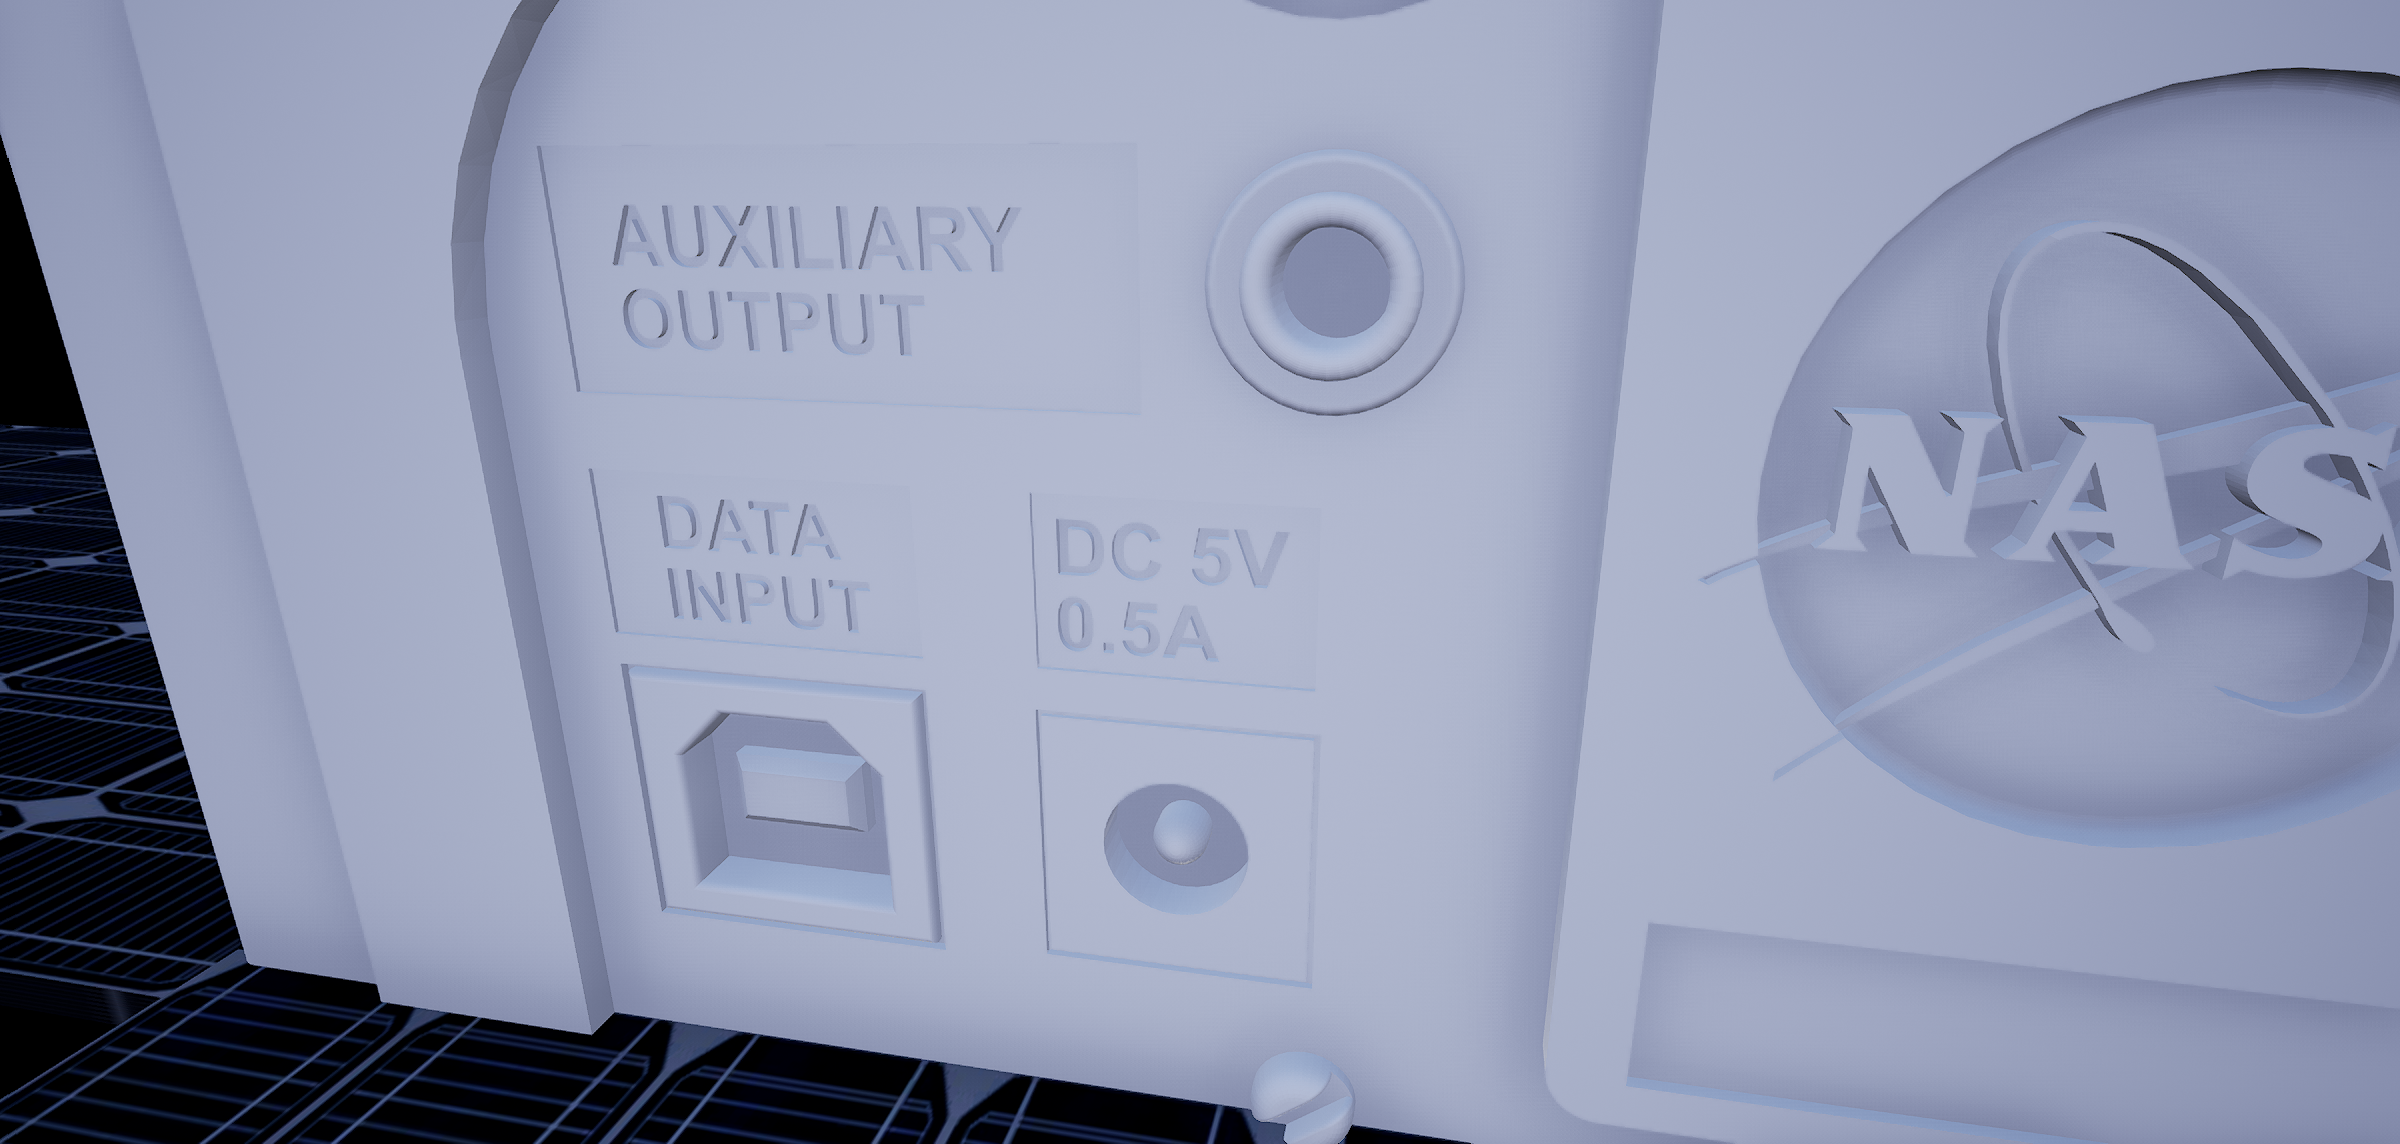aux: (1188, 121, 1476, 453)
dc: (1090, 766, 1278, 948)
usb: (669, 701, 911, 936)
